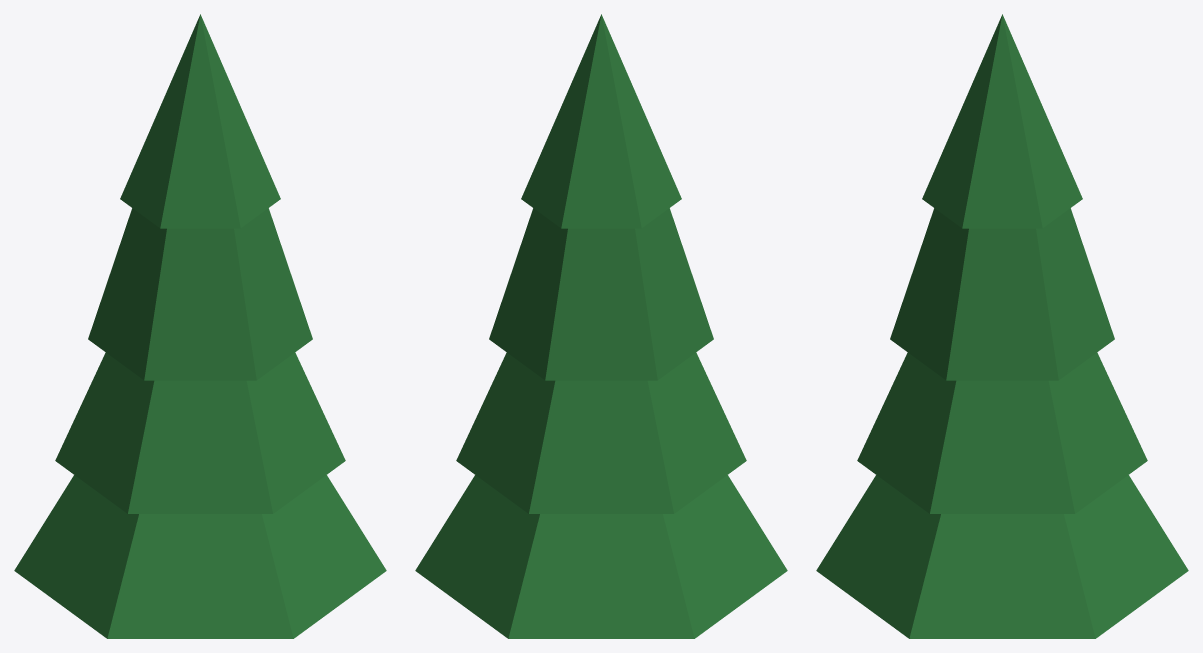
Rendered from tree_pineGroundA.glb.
The picture shows the model from 3 angles, left to right: view 1: azimuth 30°, elevation 25°; view 2: azimuth 150°, elevation 25°; view 3: azimuth 270°, elevation 25°; orthographic projection.
Parts seen in each view (by area): view 1: tree_pineGroundA; view 2: tree_pineGroundA; view 3: tree_pineGroundA.
Boxes of the visible parts, x1,y1,x2,y2 form: tree_pineGroundA: (14,14,386,638); tree_pineGroundA: (415,14,787,638); tree_pineGroundA: (816,14,1188,638).
Bounding box in the file's own units: 0.4804 × 0.9145 × 0.5547.
